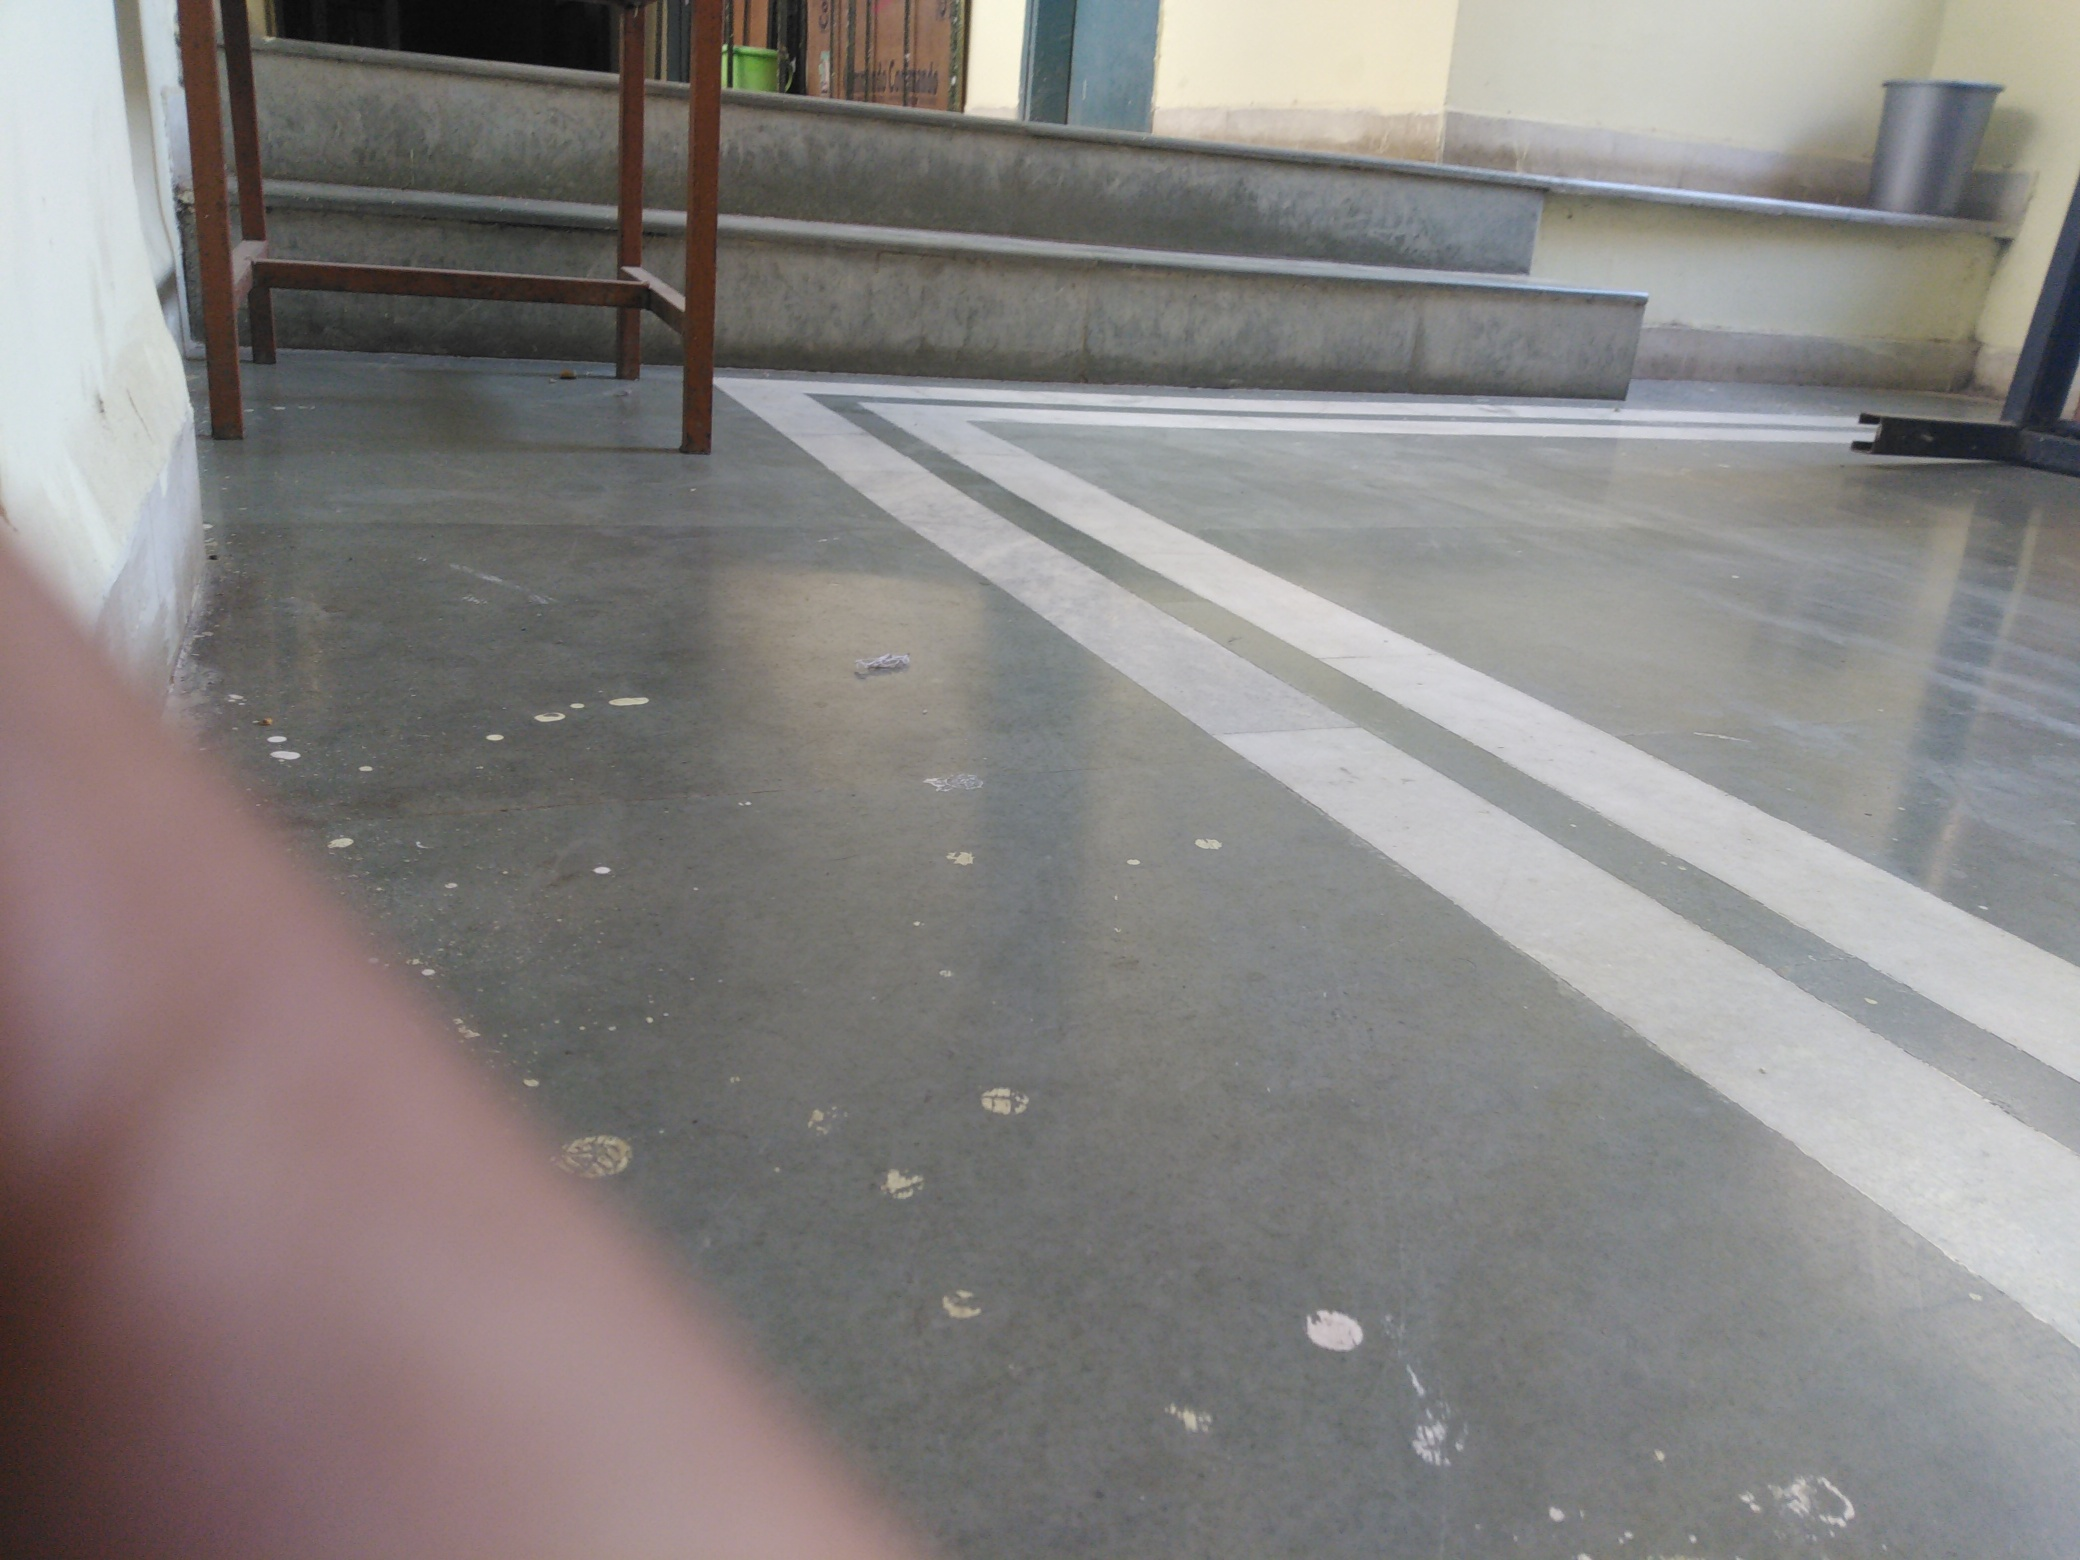stairs_up: (726, 79, 1654, 382)
